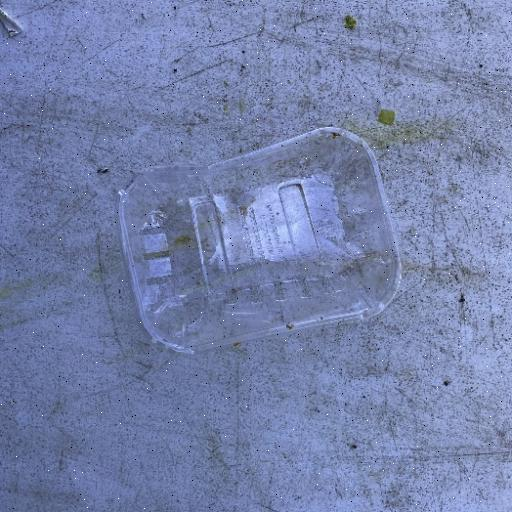Plastic: (114, 123, 404, 359)
